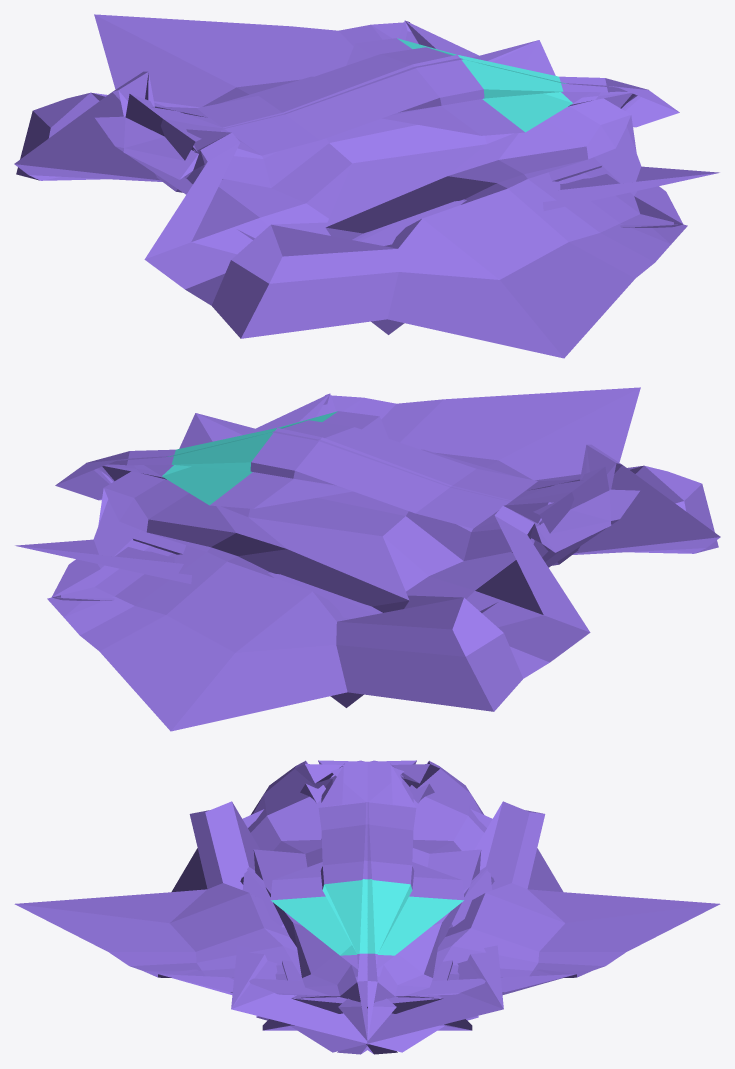
Rendered from ship1.glb.
3 views of the same model, one above another, from view 1: azimuth 30°, elevation 25°; view 2: azimuth 150°, elevation 25°; view 3: azimuth 270°, elevation 25° (orthographic). The views are drawn at different scales.
Visible parts, largest first — view 1: Cube; view 2: Cube; view 3: Cube.
Part boxes in pixels (box(x1,y1,x2,y2)): Cube: box(14, 14, 719, 358); Cube: box(15, 387, 720, 731); Cube: box(14, 760, 720, 1054).
Size of the model in its own units: 4.98 by 1.55 by 6.75.
